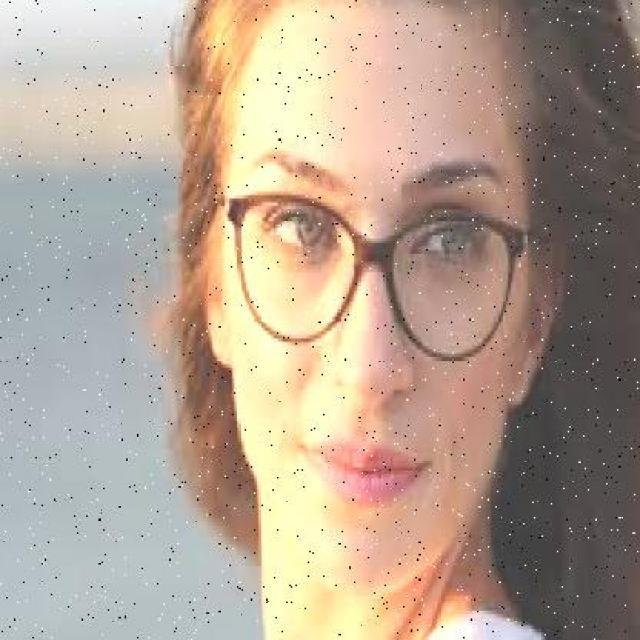glasses: (215, 158, 540, 374)
